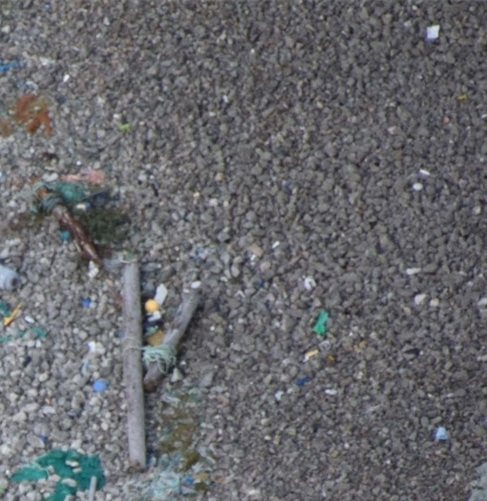net: (3, 445, 107, 501)
scattered_barrel: (281, 268, 357, 401)
straight_bar: (112, 253, 153, 477), (30, 181, 108, 268), (140, 291, 205, 392)
together_barrel: (1, 43, 113, 343)
white_in_green: (399, 1, 466, 62), (409, 403, 470, 462)
